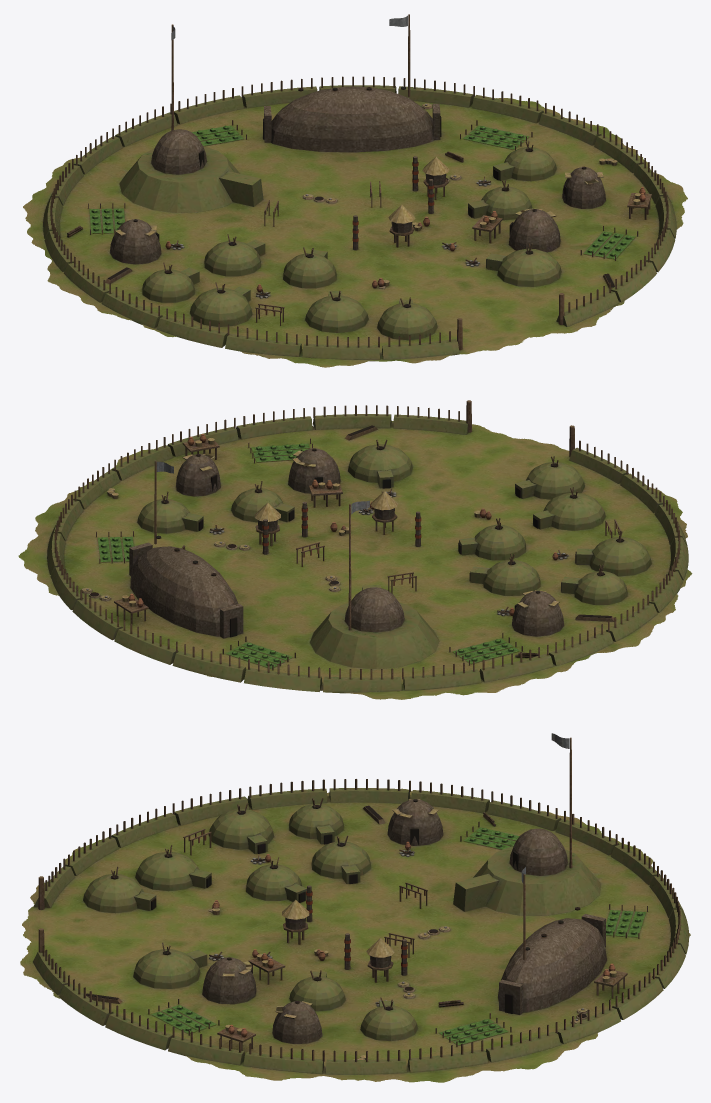
Rendered from stone-town-medium-b-americas.glb.
3 views of the same model, one above another, from view 1: azimuth 30°, elevation 25°; view 2: azimuth 150°, elevation 25°; view 3: azimuth 270°, elevation 25° (orthographic). The views are drawn at different scales.
Visible parts, largest first — view 1: LOD0; view 2: LOD0; view 3: LOD0.
Boxes of the visible parts, x1,y1,x2,y2 form: LOD0: (23, 14, 687, 367); LOD0: (18, 400, 692, 699); LOD0: (20, 733, 690, 1082).
Size of what is drawn, in the model's own units: 5.99 by 1.45 by 5.73.
Materials: 3 (3 with a texture image).
